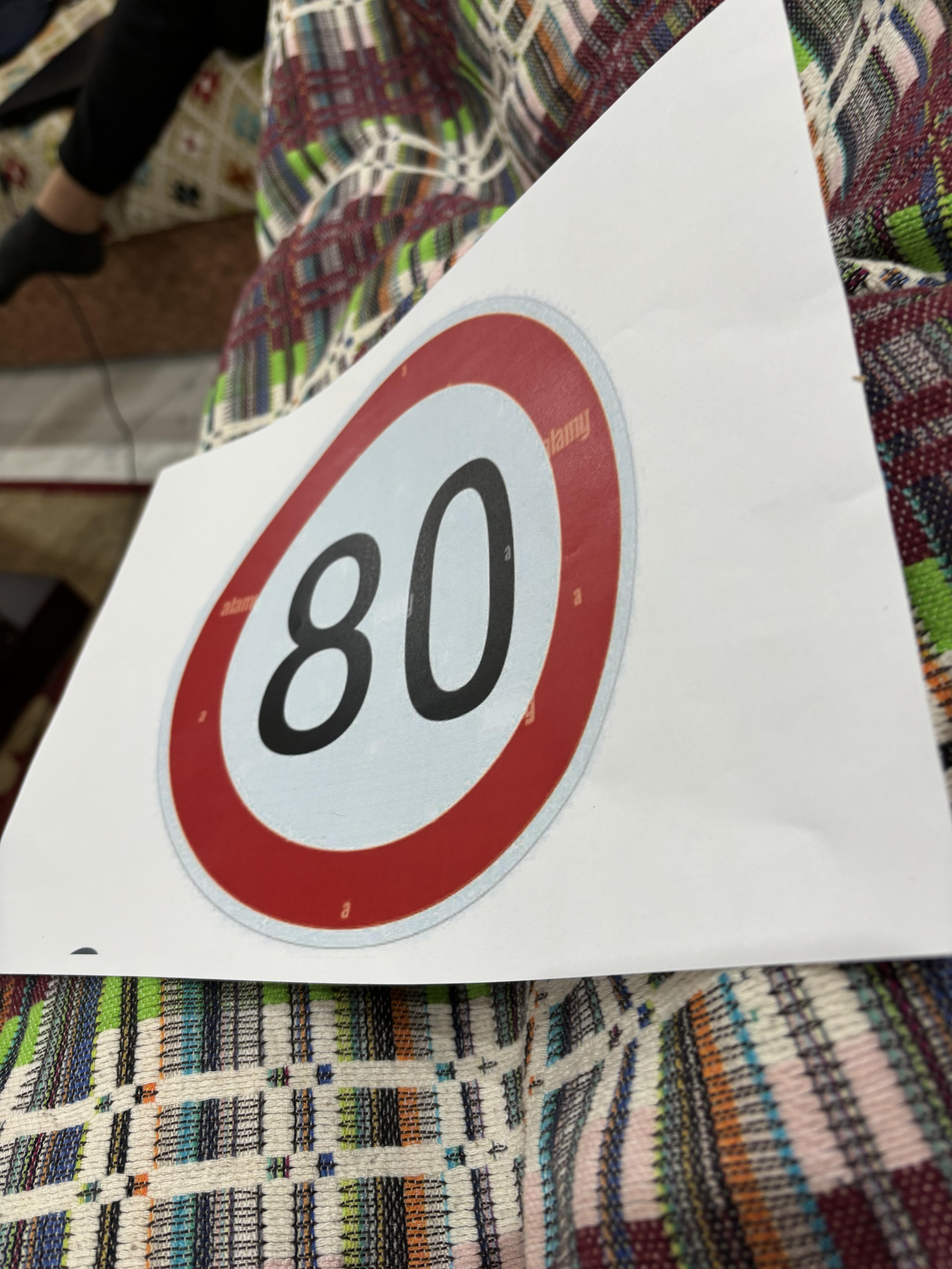80-Speed: (152, 296, 650, 950)
